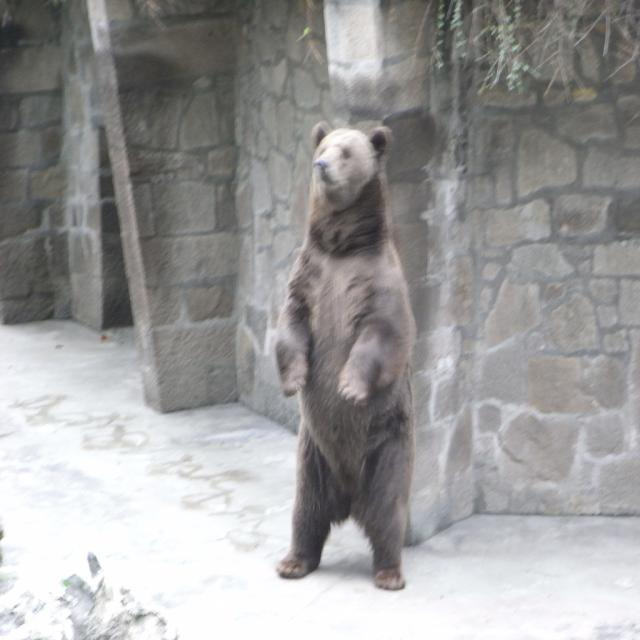Cheetahs: (272, 120, 419, 591)
